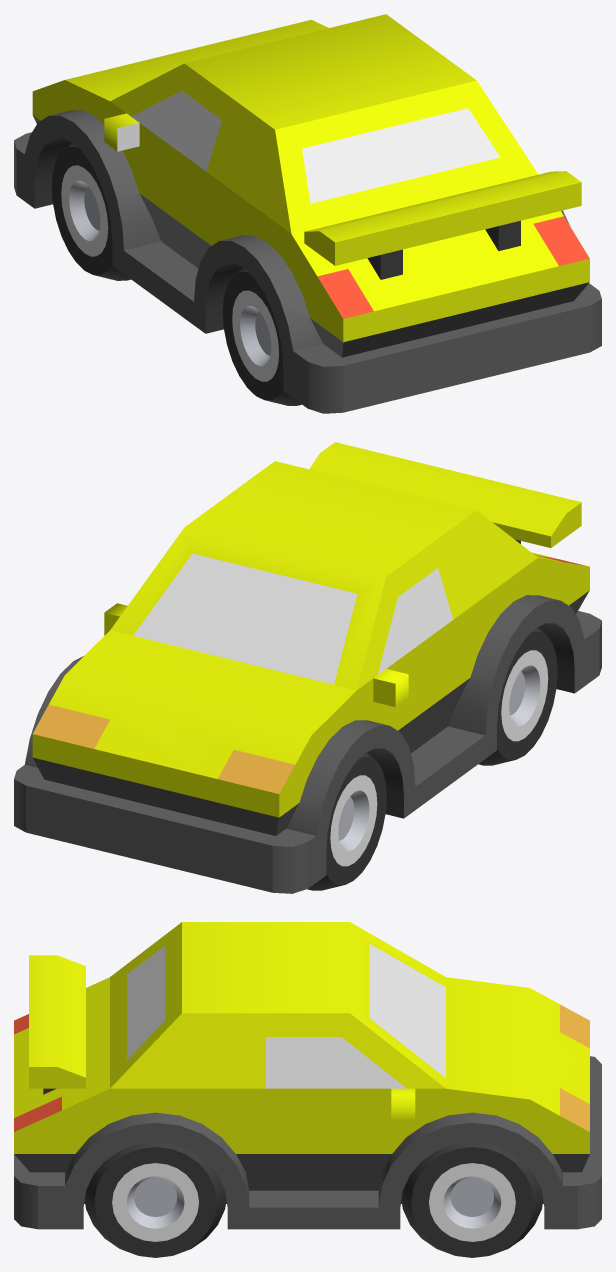
The model's file is sedanSportsYellow.glb.
3 views of the same model, one above another, from view 1: azimuth 30°, elevation 25°; view 2: azimuth 150°, elevation 25°; view 3: azimuth 270°, elevation 25° (orthographic). The views are drawn at different scales.
Parts seen in each view (by area): view 1: body, spoiler, wheel_backLeft, wheel_frontLeft; view 2: body, spoiler, wheel_frontLeft, wheel_backLeft; view 3: body, wheel_backRight, wheel_frontRight, spoiler.
Part boxes in pixels (left/top/right/bottom): body: left=14, top=14, right=601, bottom=413; spoiler: left=304, top=171, right=581, bottom=279; wheel_backLeft: left=222, top=267, right=301, bottom=405; wheel_frontLeft: left=51, top=142, right=130, bottom=280; body: left=14, top=461, right=601, bottom=893; spoiler: left=309, top=442, right=581, bottom=547; wheel_frontLeft: left=307, top=752, right=386, bottom=890; wheel_backLeft: left=478, top=627, right=557, bottom=765; body: left=14, top=922, right=601, bottom=1229; wheel_backRight: left=84, top=1142, right=226, bottom=1257; wheel_frontRight: left=401, top=1142, right=543, bottom=1257; spoiler: left=29, top=955, right=85, bottom=1094.
Size of the model in its own units: 1.3 by 1.1 by 2.45.
